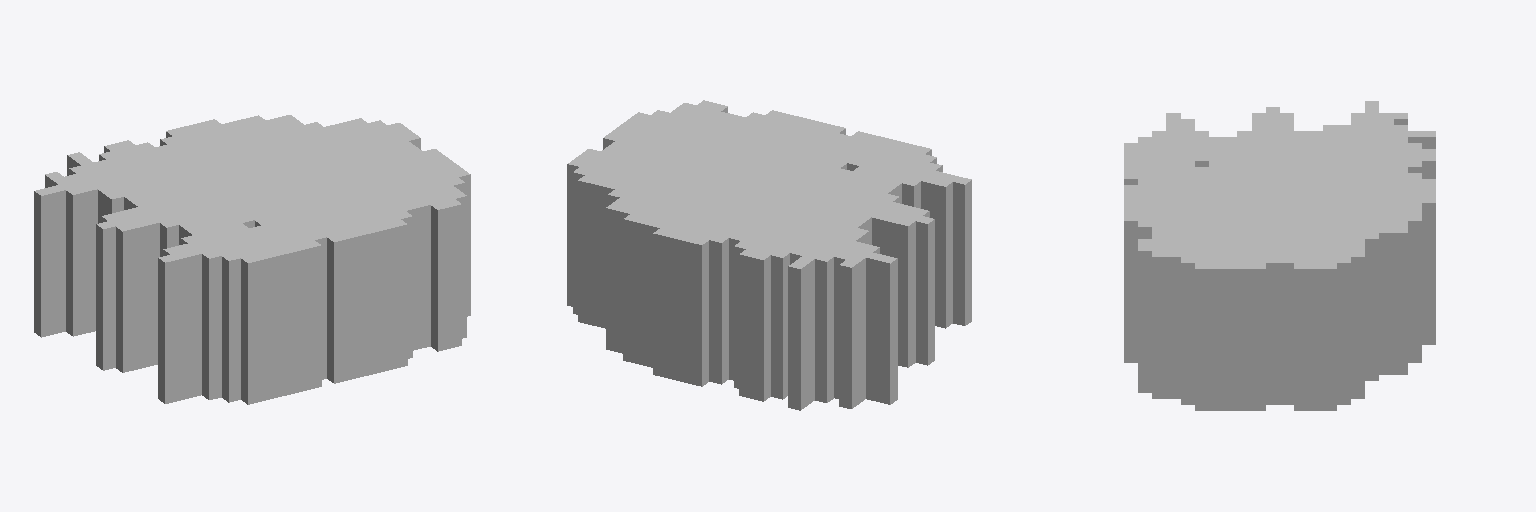
File: island2.obj
3 views of the same model, side by side, from view 1: azimuth 30°, elevation 25°; view 2: azimuth 150°, elevation 25°; view 3: azimuth 270°, elevation 25° (orthographic).
Parts seen in each view (by area): view 1: island2; view 2: island2; view 3: island2.
Part boxes in pixels (x1,y1,x2,y2): island2: (34, 115, 470, 404); island2: (567, 100, 971, 410); island2: (1124, 101, 1435, 410).
Size of the model in its own units: 28 by 11 by 22.